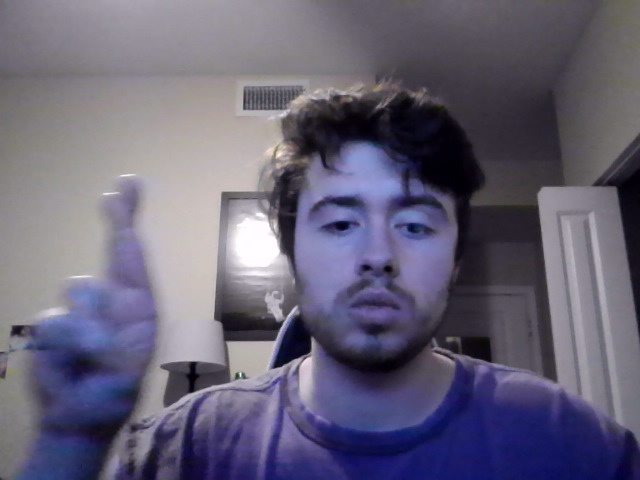r: (30, 173, 161, 456)
